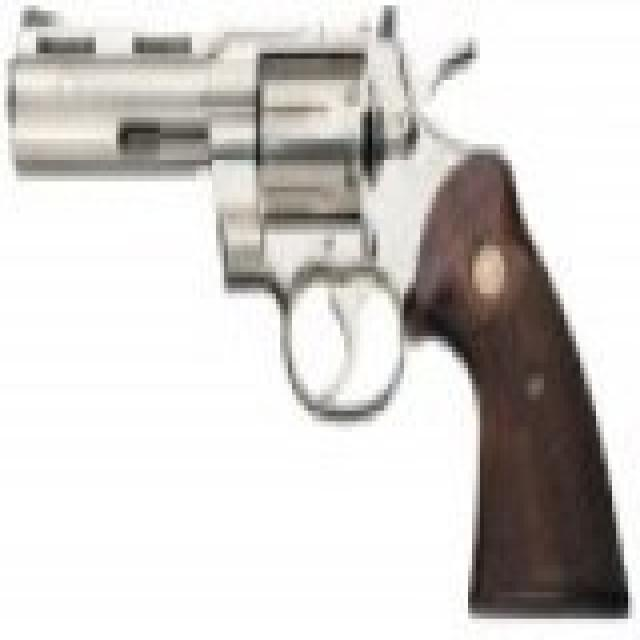Gun: (9, 14, 630, 614)
